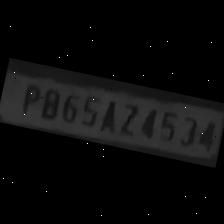3: (174, 109, 200, 147)
4: (134, 101, 160, 140), (195, 112, 220, 150)
5: (154, 104, 182, 144), (76, 90, 104, 129)
6: (56, 86, 83, 124)
8: (36, 82, 64, 122)
A: (93, 94, 120, 132)
P: (16, 78, 43, 118)
Z: (110, 95, 138, 136)
